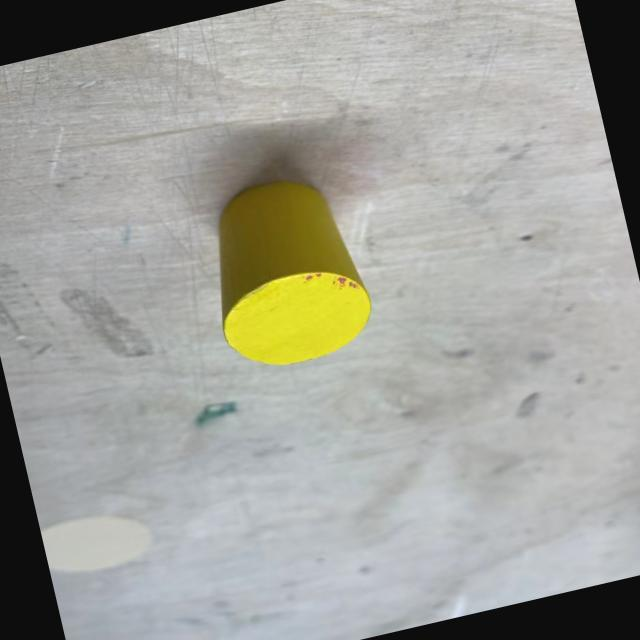yellow_cylinder: (192, 165, 382, 378)
